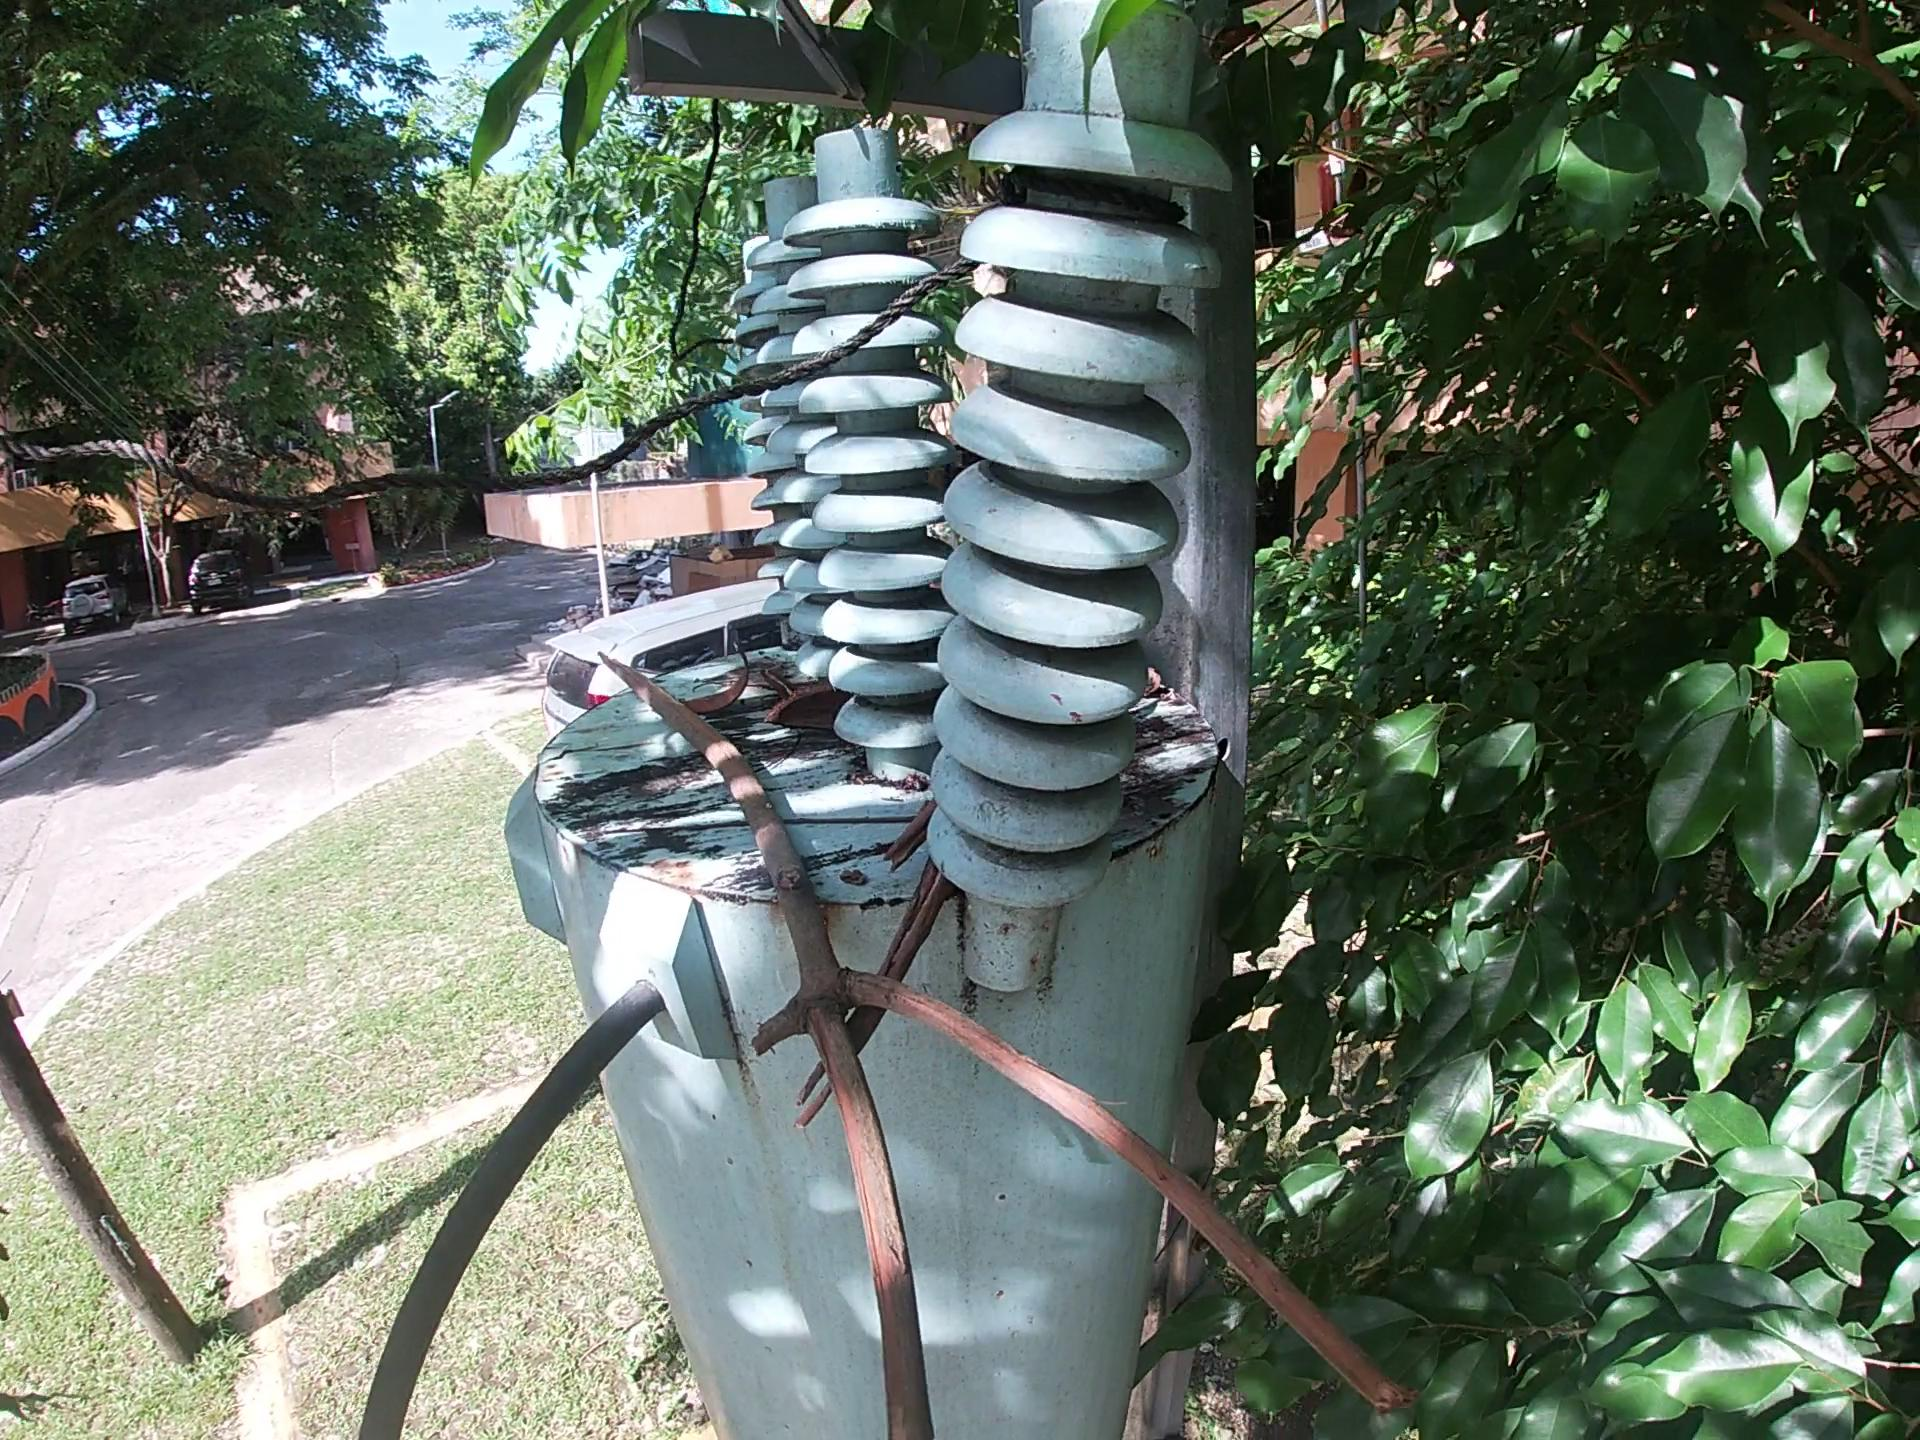mahogany fruit: (674, 644, 760, 720), (756, 684, 853, 740)
tree branch: (578, 641, 1424, 1437), (785, 797, 962, 1147)
